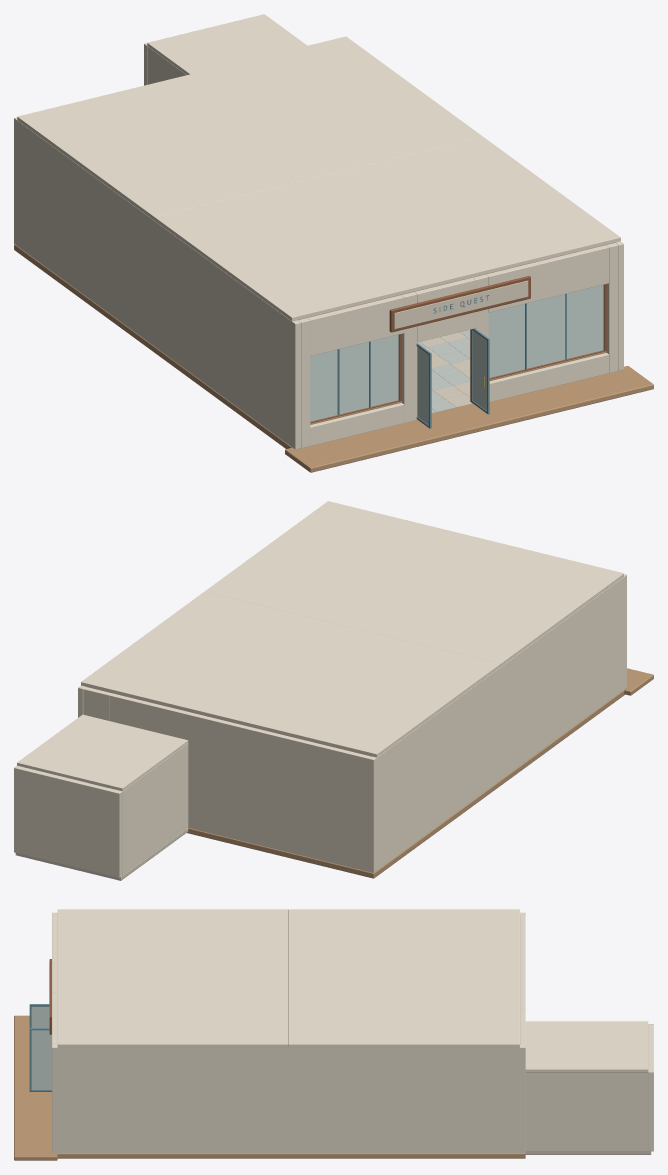
File: CozyGamingStore_Environment.fbx
3 renders of one model, top to bottom at view 1: azimuth 30°, elevation 25°; view 2: azimuth 150°, elevation 25°; view 3: azimuth 270°, elevation 25°, orthographic. The views are drawn at different scales.
Parts seen in each view (by area): view 1: CST01_FBX_CST01_Ceiling_Main_Front, CST01_FBX_CST01_Ceiling_Main_Rear, CST01_FBX_CST01_SideWall_-6.0, CST01_FBX_CST01_Front_Stoop, CST01_FBX_CST01_Window_Right_Glass, CST01_FBX_CST01_Window_Left_Glass, CST01_FBX_CST01_Ceiling_Stockroom, CST01_FBX_CST01_Window_Right_HeaderWall, CST01_FBX_CST01_Window_Left_HeaderWall, CST01_FBX_CST01_Floor_Tiles_Combined_075m, CST01_FBX_CST01_Window_Right_SillWall, CST01_FBX_CST01_Exterior_Sign_Inset (+11 smaller); view 2: CST01_FBX_CST01_Ceiling_Main_Rear, CST01_FBX_CST01_Ceiling_Main_Front, CST01_FBX_CST01_SideWall_-6.0, CST01_FBX_CST01_BackWall_Left, CST01_FBX_CST01_Stock_BackWall, CST01_FBX_CST01_Ceiling_Stockroom, CST01_FBX_CST01_Stock_SideWall_1.7999999999999998, CST01_FBX_CST01_Main_Floor_Slab, CST01_FBX_CST01_BackWall_Over_Door, CST01_FBX_CST01_BackWall_Right, CST01_FBX_CST01_Stockroom_Floor; view 3: CST01_FBX_CST01_SideWall_6.0, CST01_FBX_CST01_Ceiling_Main_Front, CST01_FBX_CST01_Ceiling_Main_Rear, CST01_FBX_CST01_Stock_SideWall_5.8, CST01_FBX_CST01_Ceiling_Stockroom, CST01_FBX_CST01_Front_Stoop, CST01_FBX_CST01_Main_Floor_Slab, CST01_FBX_CST01_Entrance_R_Glass, CST01_FBX_CST01_Stock_BackWall, CST01_FBX_CST01_BackWall_Left, CST01_FBX_CST01_Stockroom_Floor, CST01_FBX_CST01_Entrance_L_Glass.
Boxes of the visible parts, x1,y1,x2,y2 form: CST01_FBX_CST01_Ceiling_Main_Front: [154, 137, 620, 321]; CST01_FBX_CST01_Ceiling_Main_Rear: [17, 36, 482, 220]; CST01_FBX_CST01_SideWall_-6.0: [14, 117, 300, 449]; CST01_FBX_CST01_Front_Stoop: [285, 366, 653, 472]; CST01_FBX_CST01_Window_Right_Glass: [488, 284, 603, 377]; CST01_FBX_CST01_Window_Left_Glass: [310, 334, 398, 421]; CST01_FBX_CST01_Ceiling_Stockroom: [147, 14, 307, 74]; CST01_FBX_CST01_Window_Right_HeaderWall: [486, 245, 608, 312]; CST01_FBX_CST01_Window_Left_HeaderWall: [307, 295, 404, 355]; CST01_FBX_CST01_Floor_Tiles_Combined_075m: [417, 329, 472, 413]; CST01_FBX_CST01_Window_Right_SillWall: [489, 353, 608, 402]; CST01_FBX_CST01_Exterior_Sign_Inset: [394, 280, 528, 329]; CST01_FBX_CST01_Ceiling_Main_Rear: [81, 591, 500, 757]; CST01_FBX_CST01_Ceiling_Main_Front: [205, 501, 623, 666]; CST01_FBX_CST01_SideWall_-6.0: [368, 574, 626, 872]; CST01_FBX_CST01_BackWall_Left: [161, 706, 371, 871]; CST01_FBX_CST01_Stock_BackWall: [14, 766, 122, 877]; CST01_FBX_CST01_Ceiling_Stockroom: [17, 714, 188, 791]; CST01_FBX_CST01_Stock_SideWall_1.7999999999999998: [120, 743, 188, 875]; CST01_FBX_CST01_Main_Floor_Slab: [187, 690, 624, 878]; CST01_FBX_CST01_BackWall_Over_Door: [109, 693, 164, 733]; CST01_FBX_CST01_BackWall_Right: [83, 687, 111, 788]; CST01_FBX_CST01_Stockroom_Floor: [15, 828, 188, 880]; CST01_FBX_CST01_SideWall_6.0: [52, 1045, 525, 1153]; CST01_FBX_CST01_Ceiling_Main_Front: [57, 909, 288, 1047]; CST01_FBX_CST01_Ceiling_Main_Rear: [288, 909, 519, 1047]; CST01_FBX_CST01_Stock_SideWall_5.8: [525, 1072, 648, 1151]; CST01_FBX_CST01_Ceiling_Stockroom: [525, 1021, 648, 1072]; CST01_FBX_CST01_Front_Stoop: [14, 1015, 57, 1160]; CST01_FBX_CST01_Main_Floor_Slab: [57, 1153, 525, 1158]; CST01_FBX_CST01_Entrance_R_Glass: [31, 1030, 51, 1089]; CST01_FBX_CST01_Stock_BackWall: [648, 1024, 653, 1151]; CST01_FBX_CST01_BackWall_Left: [520, 915, 525, 1009]; CST01_FBX_CST01_Stockroom_Floor: [525, 1151, 651, 1154]; CST01_FBX_CST01_Entrance_L_Glass: [31, 1006, 49, 1027].
Size of the model in its own units: 13 by 4.92 by 24.92.
